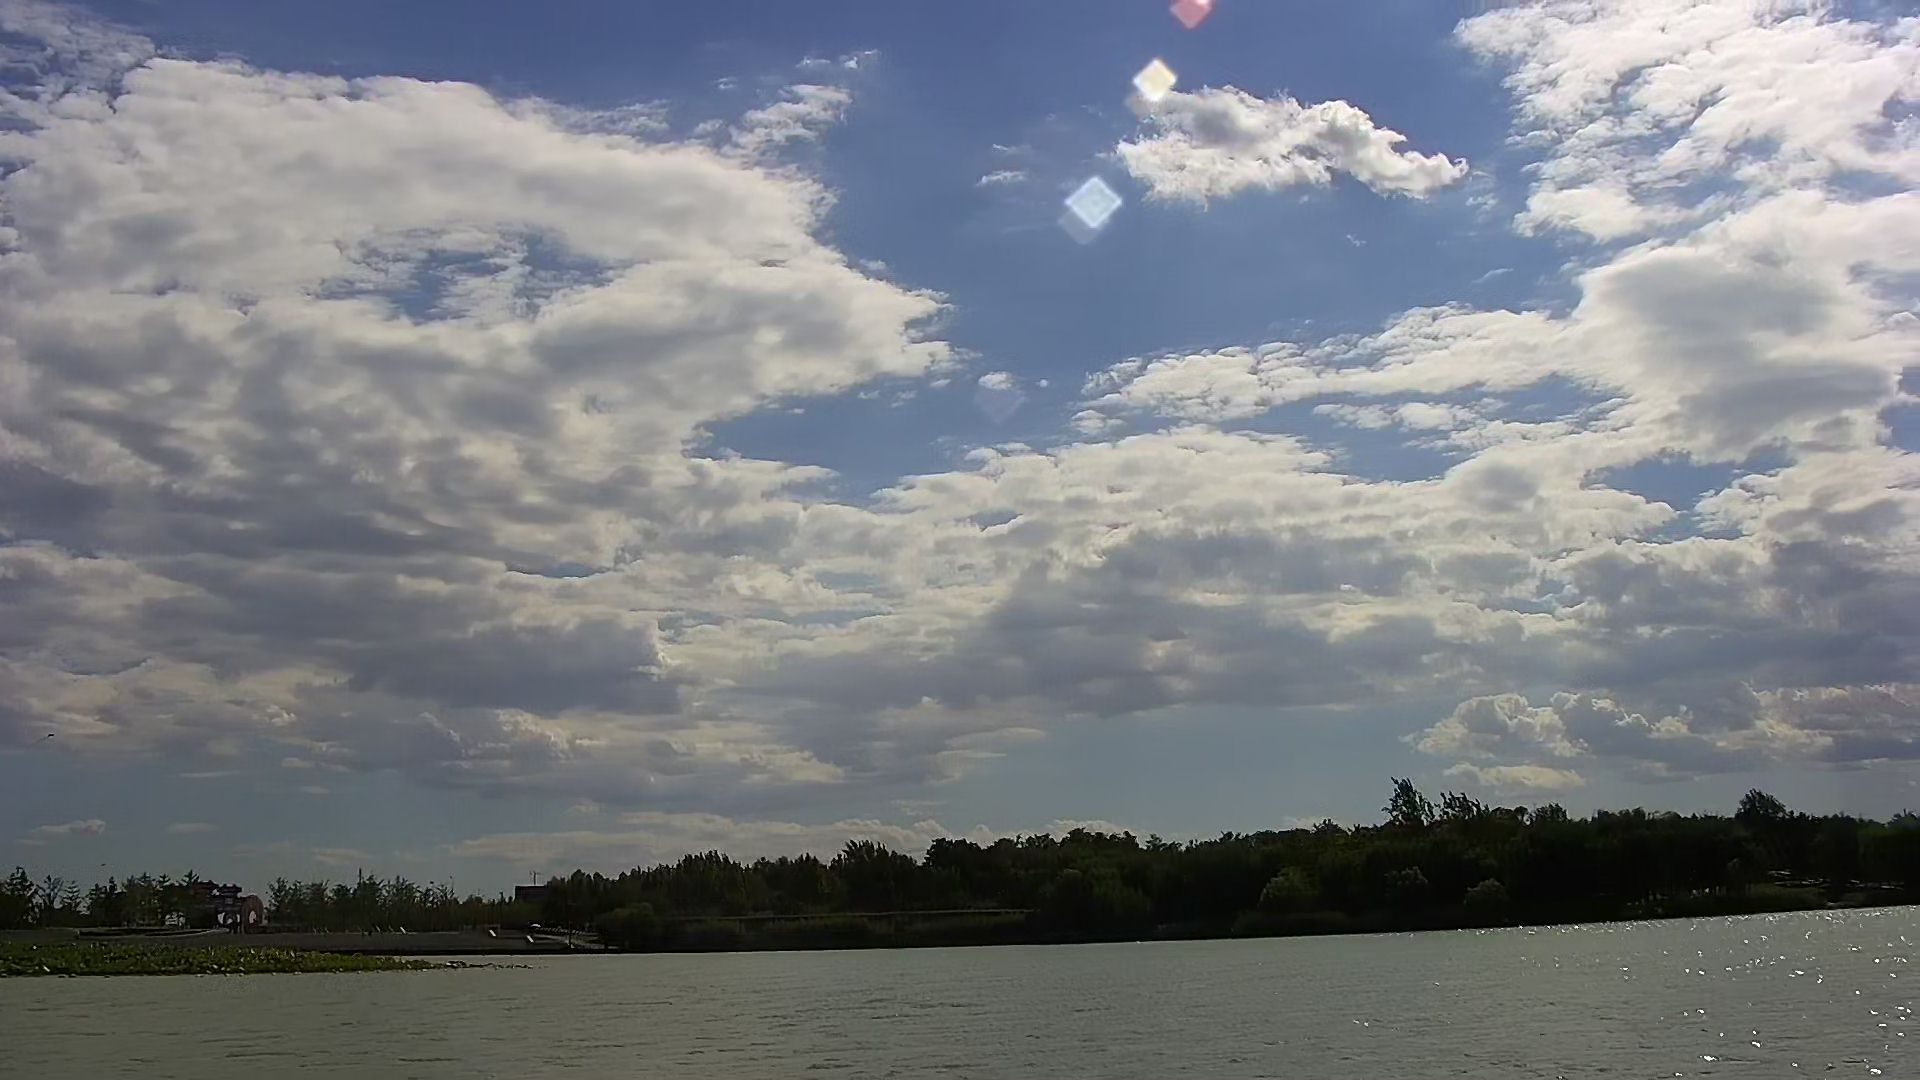grass: (7, 943, 534, 978)
